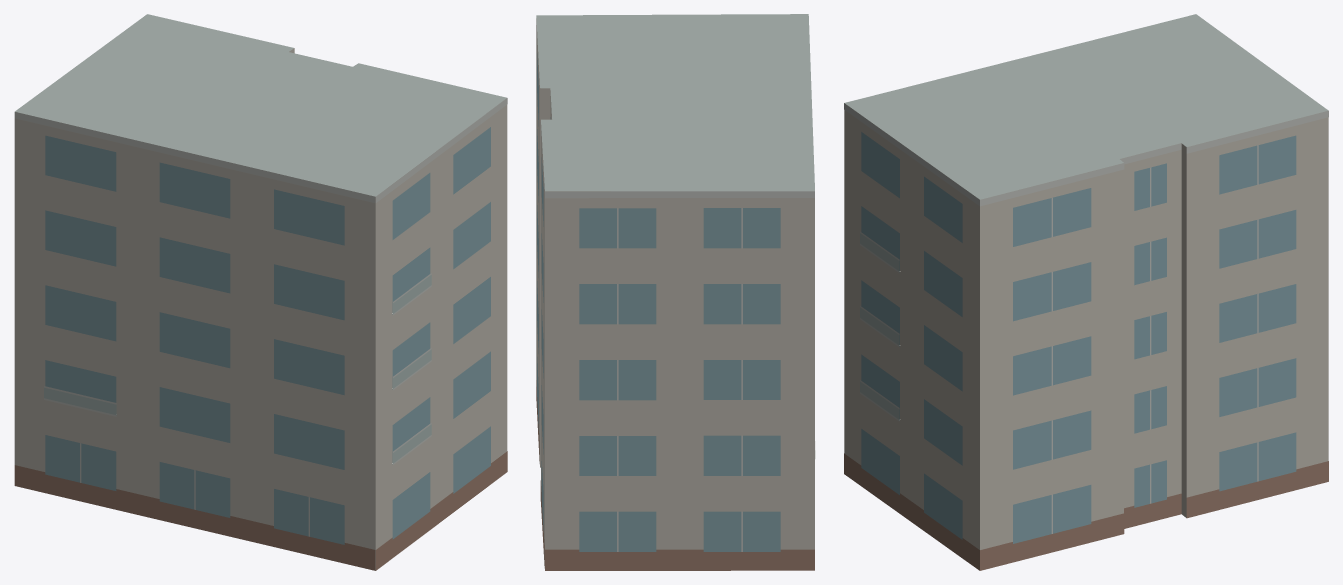
The model's file is survey-upis-32744595.glb.
3 renders of one model, left to right at view 1: azimuth 30°, elevation 25°; view 2: azimuth 150°, elevation 25°; view 3: azimuth 270°, elevation 25°, orthographic. The views are drawn at different scales.
Parts seen in each view (by area): view 1: survey-upis-32744595.tmp; view 2: survey-upis-32744595.tmp; view 3: survey-upis-32744595.tmp.
Part boxes in pixels (left/top/right/bottom): survey-upis-32744595.tmp: left=14, top=14, right=507, bottom=570; survey-upis-32744595.tmp: left=536, top=14, right=815, bottom=570; survey-upis-32744595.tmp: left=844, top=14, right=1328, bottom=570.
Bounding box in the file's own units: 14.72 × 13.7 × 16.22.
